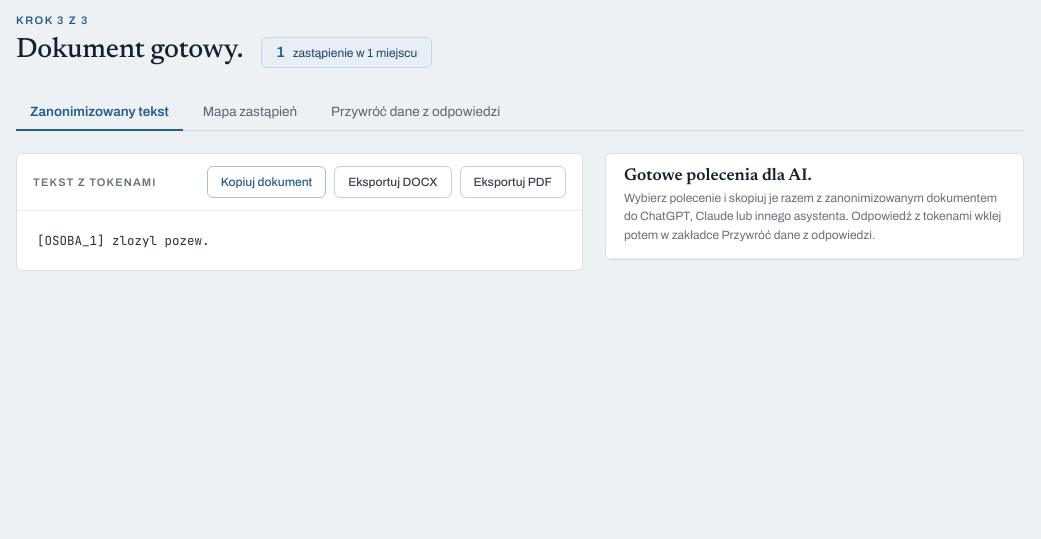
Test case: ResultView › renders the restore panel on the restore tab
Click the tab "Przywróć dane z odpowiedzi" at coordinates (416, 112), box x1=317 y1=94 x2=514 y2=131
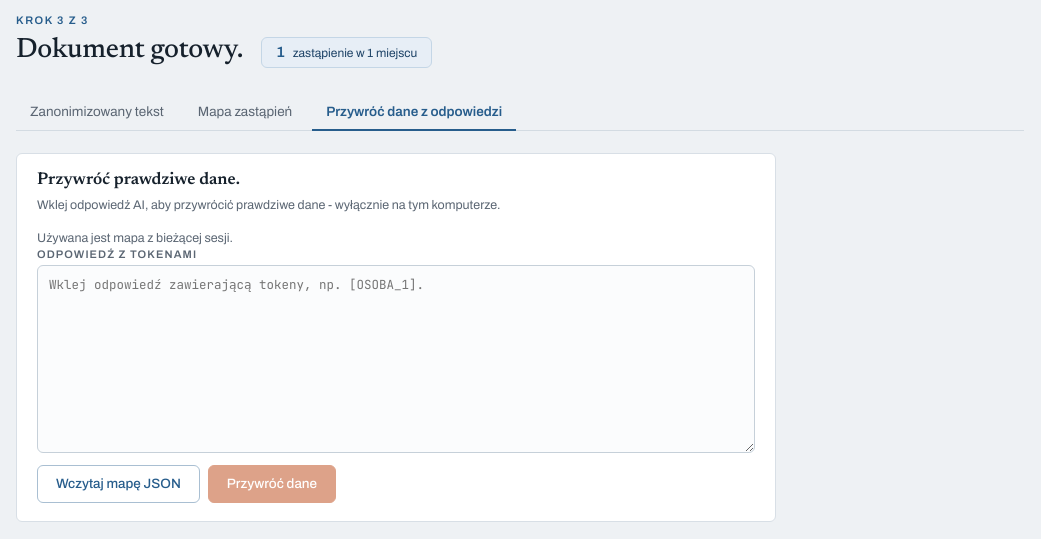
Check: the text "Używana jest mapa z bieżącej sesji." is shown, box x1=37 y1=231 x2=233 y2=245
